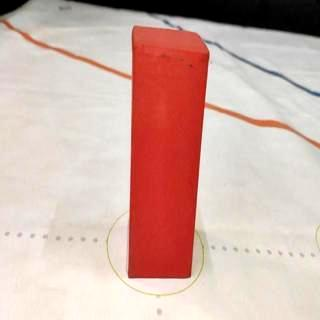redbox: (128, 25, 210, 279)
